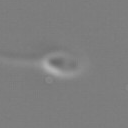normal: (1, 53, 45, 70)
